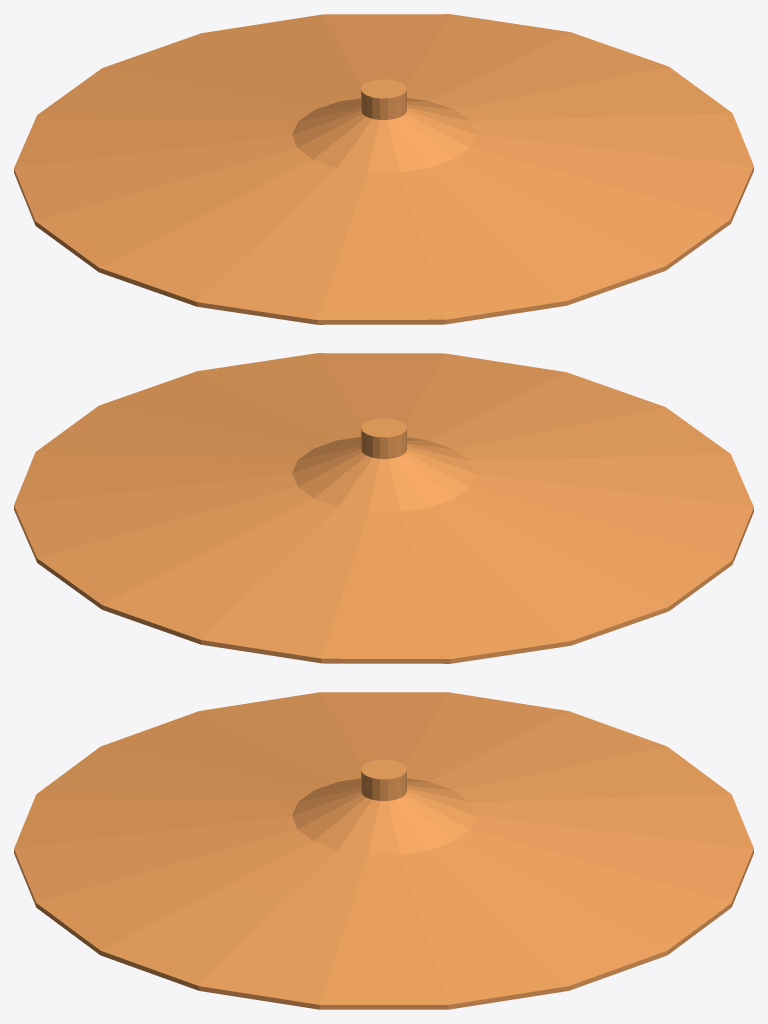
Rendered from cymbal_item.fbx.
3 views of the same model, one above another, from view 1: azimuth 30°, elevation 25°; view 2: azimuth 150°, elevation 25°; view 3: azimuth 270°, elevation 25° (orthographic).
Parts seen in each view (by area): view 1: Cymbal; view 2: Cymbal; view 3: Cymbal.
Part boxes in pixels (x1,y1,x2,y2): Cymbal: [14, 14, 753, 324]; Cymbal: [14, 353, 753, 663]; Cymbal: [14, 692, 753, 1009].
Size of the model in its own units: 100 by 12.5 by 100.
